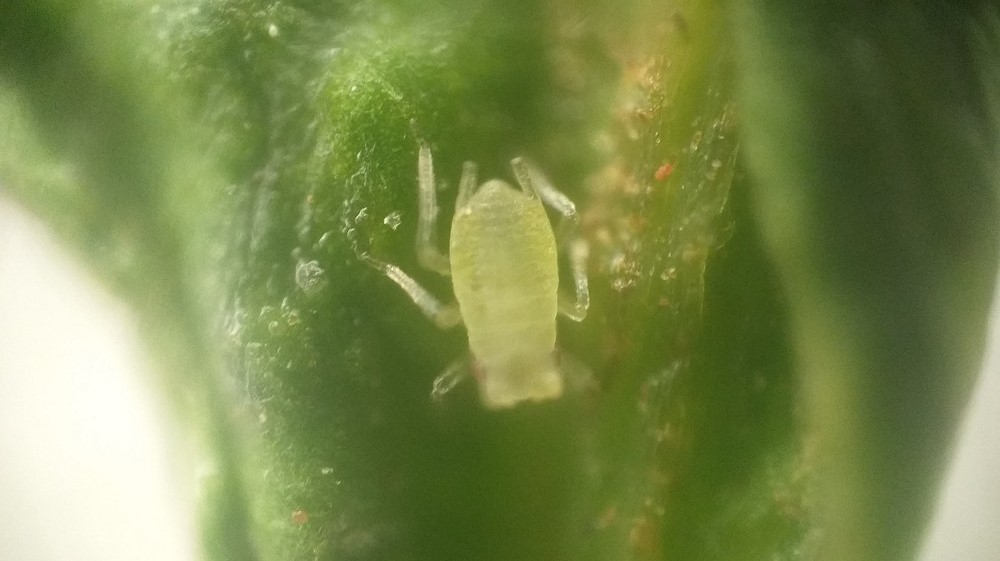Pulgon: (358, 115, 639, 432)
